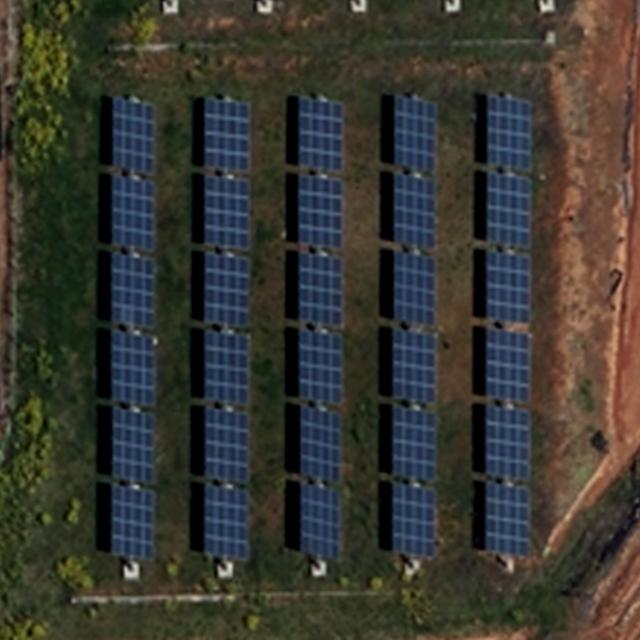solarpanel: (293, 327, 349, 407), (384, 405, 440, 483), (198, 405, 254, 483), (105, 329, 160, 408), (104, 408, 160, 485), (107, 172, 160, 252), (104, 255, 159, 330), (109, 94, 161, 173), (480, 96, 532, 175), (385, 249, 438, 326), (481, 327, 533, 405), (105, 483, 157, 561), (385, 326, 438, 402), (480, 404, 531, 481), (201, 95, 251, 173), (291, 172, 341, 249), (201, 329, 251, 406), (201, 177, 252, 252), (294, 93, 343, 171), (384, 483, 440, 551), (390, 93, 438, 171), (297, 408, 345, 485), (201, 483, 249, 560), (201, 254, 251, 327), (293, 251, 341, 327), (480, 483, 532, 553), (479, 249, 528, 322), (391, 172, 438, 248), (482, 172, 528, 248), (296, 483, 339, 560)
